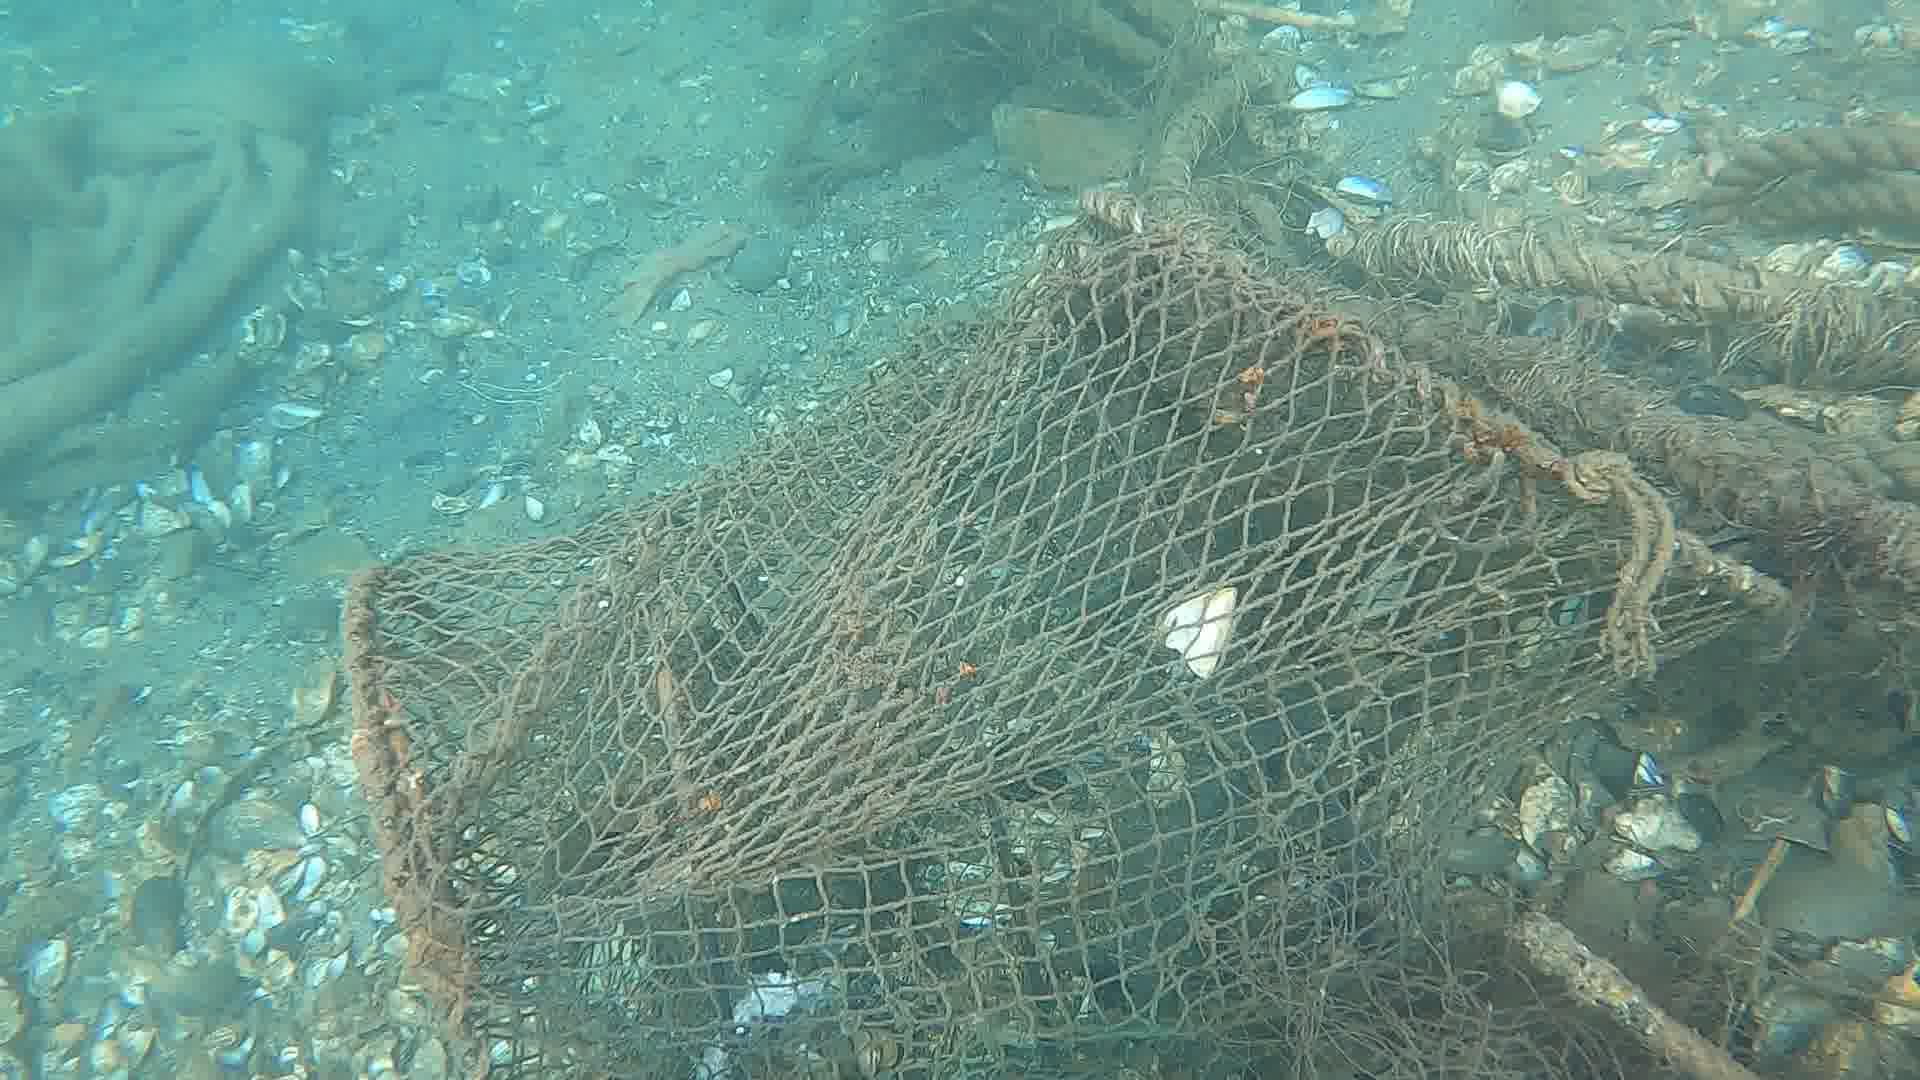bundle of ropes: (1696, 121, 1920, 228), (1560, 446, 1677, 611)
rope: (1539, 241, 1816, 320)
spring fish trap: (338, 190, 1789, 1080)
